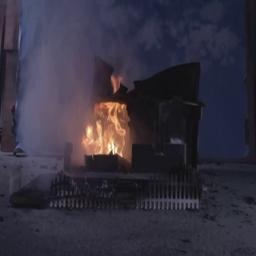fire: (76, 94, 141, 174)
smoke: (0, 0, 137, 90)
